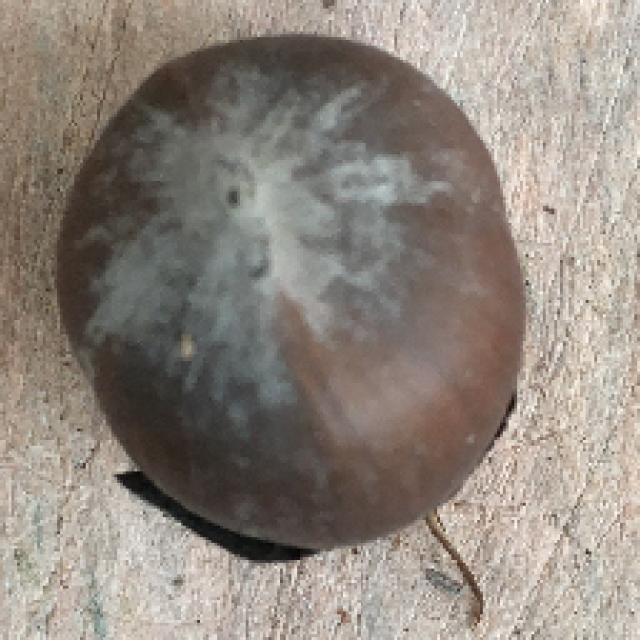damagedHazelnut: (57, 34, 526, 558)
